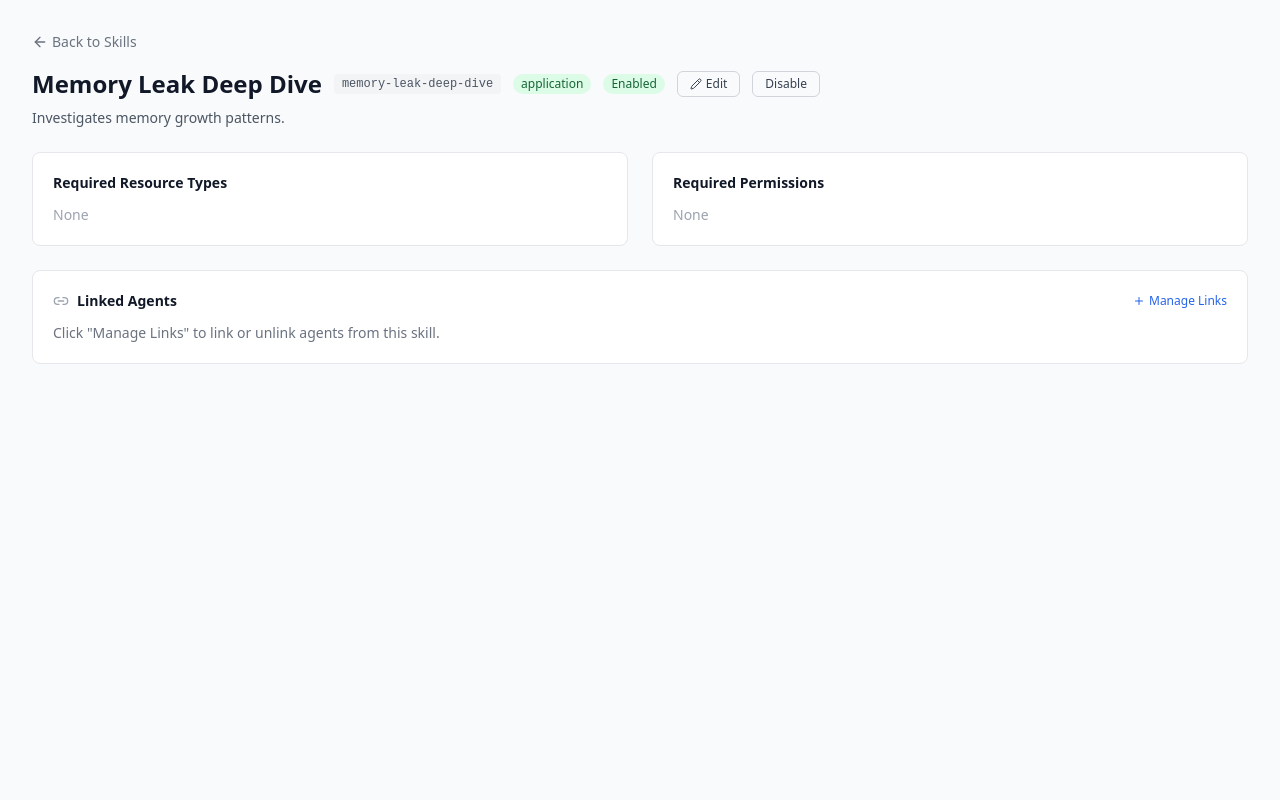
Test: SkillDetail › has an Edit button that opens a form pre-filled with the skill's data
What coordinates should you click on to do the following:
click the button "Edit"
I would click on:
 (709, 84)
Its box is 677,71 -> 740,97.
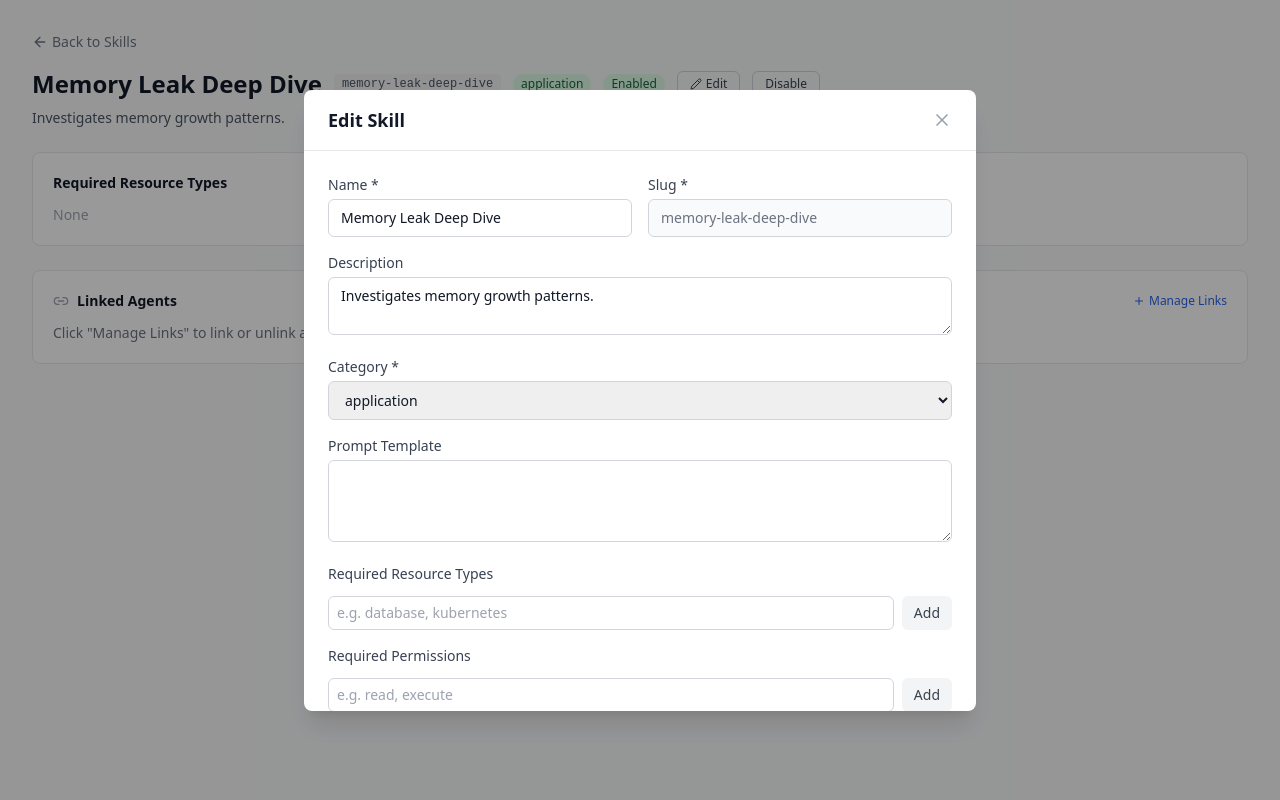
Expected: the heading "Edit Skill" is shown, 328,106 -> 405,134
Expected: the field showing "Memory Leak Deep Dive" is shown, 328,198 -> 632,236
